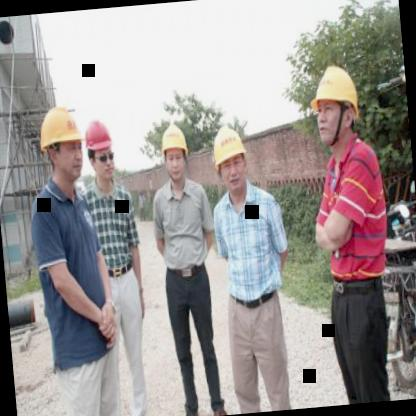helmet: (305, 61, 364, 153), (36, 102, 88, 186), (210, 122, 252, 201), (82, 113, 118, 188), (158, 122, 192, 186)
